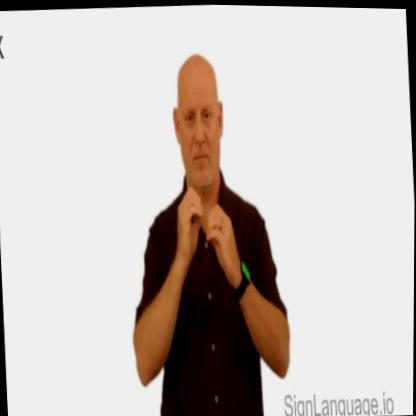Fix: (167, 160, 252, 311)
